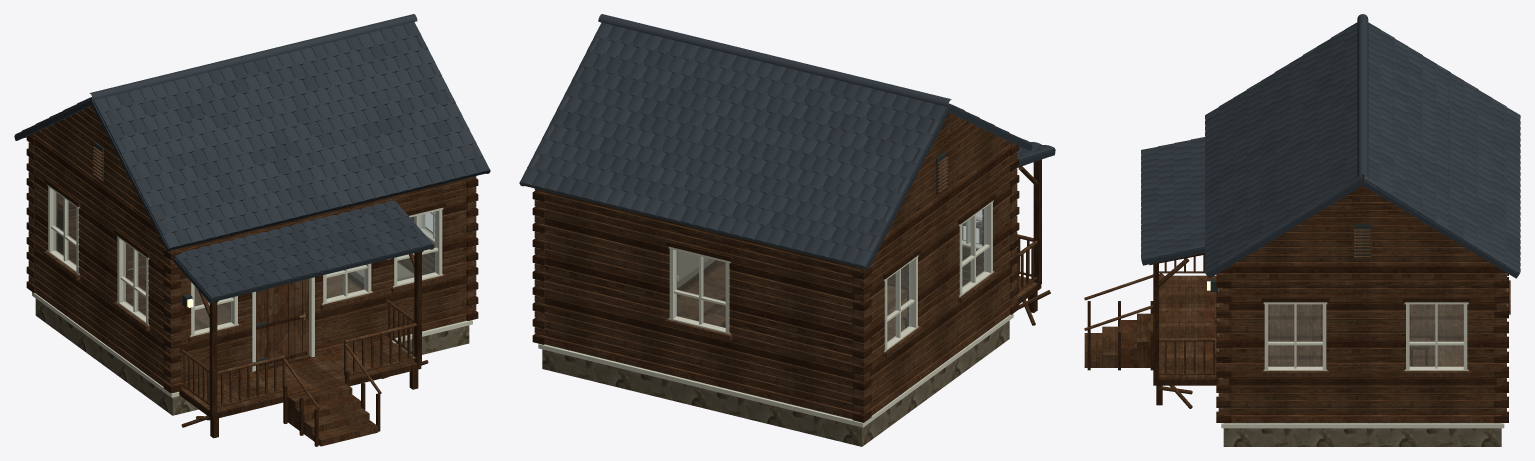
The model's file is timber-house-edited.glb.
The picture shows the model from 3 angles, left to right: view 1: azimuth 30°, elevation 25°; view 2: azimuth 150°, elevation 25°; view 3: azimuth 270°, elevation 25°; orthographic projection. The views are drawn at different scales.
Visible parts, largest first — view 1: Walls, Foundation, Door_part_0567, black-roof-backing-and-verges, Windows_part_0481, Windows_part_0501, Windows_part_0511, Furniture, Door, Windows_part_0471, Windows_part_0461, Windows_part_0512 (+3 smaller); view 2: Walls, Foundation, Windows_part_0491, black-roof-backing-and-verges, Furniture, Windows_part_0501, Windows_part_0511, Windows_part_0514, Windows_part_0504, GableDetails, Windows_part_0492; view 3: Walls, Foundation, Windows_part_0521, Windows_part_0531, black-roof-backing-and-verges, Furniture, GableDetails.
Boxes of the visible parts, <box> form: Walls: <box>26,106,478,393</box>; Foundation: <box>32,252,472,446</box>; Door_part_0567: <box>256,278,308,369</box>; black-roof-backing-and-verges: <box>14,99,490,303</box>; Windows_part_0481: <box>397,211,436,281</box>; Windows_part_0501: <box>53,190,75,265</box>; Windows_part_0511: <box>123,241,145,316</box>; Furniture: <box>57,199,414,289</box>; Door: <box>251,277,314,372</box>; Windows_part_0471: <box>327,265,365,298</box>; Windows_part_0461: <box>195,287,231,330</box>; Windows_part_0512: <box>117,237,125,302</box>; Walls: <box>532,113,1019,422</box>; Foundation: <box>538,159,1050,446</box>; Windows_part_0491: <box>676,250,725,327</box>; black-roof-backing-and-verges: <box>519,106,1055,270</box>; Furniture: <box>677,251,907,327</box>; Windows_part_0501: <box>887,262,911,342</box>; Windows_part_0511: <box>962,207,986,287</box>; Windows_part_0514: <box>984,201,992,273</box>; Windows_part_0504: <box>909,256,917,327</box>; GableDetails: <box>535,45,1030,247</box>; Windows_part_0492: <box>669,247,676,320</box>; Walls: <box>1216,111,1508,422</box>; Foundation: <box>1084,254,1504,446</box>; Windows_part_0521: <box>1410,304,1462,365</box>; Windows_part_0531: <box>1269,304,1321,365</box>; black-roof-backing-and-verges: <box>1141,174,1518,278</box>; Furniture: <box>1409,338,1463,366</box>; GableDetails: <box>1149,101,1498,265</box>.
Bounding box in the file's own units: 8.75 × 7.11 × 10.05.
Materials: 14 (4 with a texture image).
